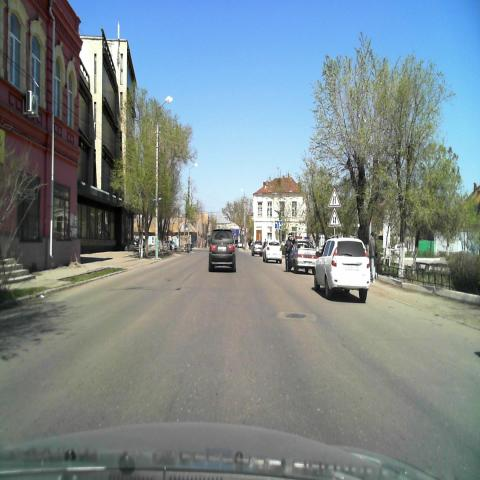1_20_3: (328, 188, 342, 207)
1_21: (329, 208, 340, 227)
